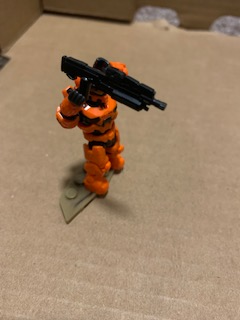rifle: (56, 53, 167, 116)
spartan: (53, 60, 131, 197)
